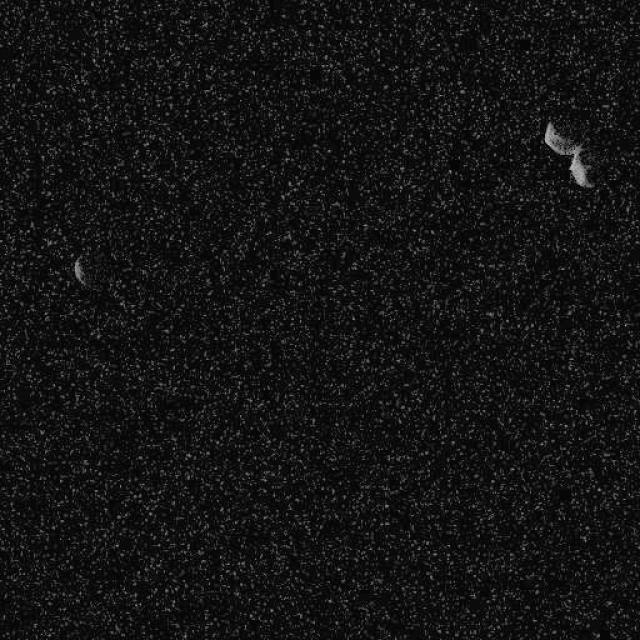D2: (542, 119, 582, 156), (568, 146, 594, 189), (71, 254, 89, 288)
